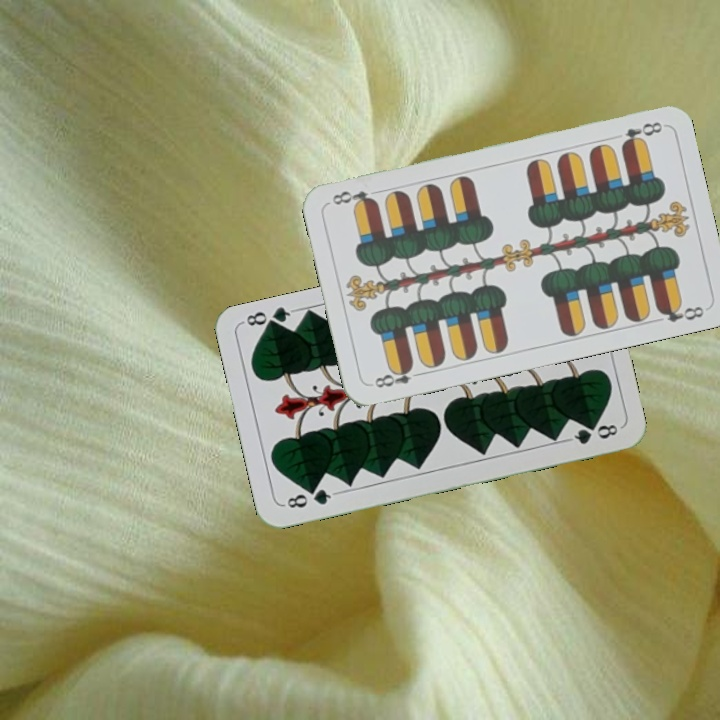E8: (370, 361, 426, 391), (617, 118, 665, 150)
G8: (280, 484, 338, 511)
